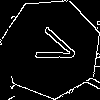V: (26, 23, 80, 70)
